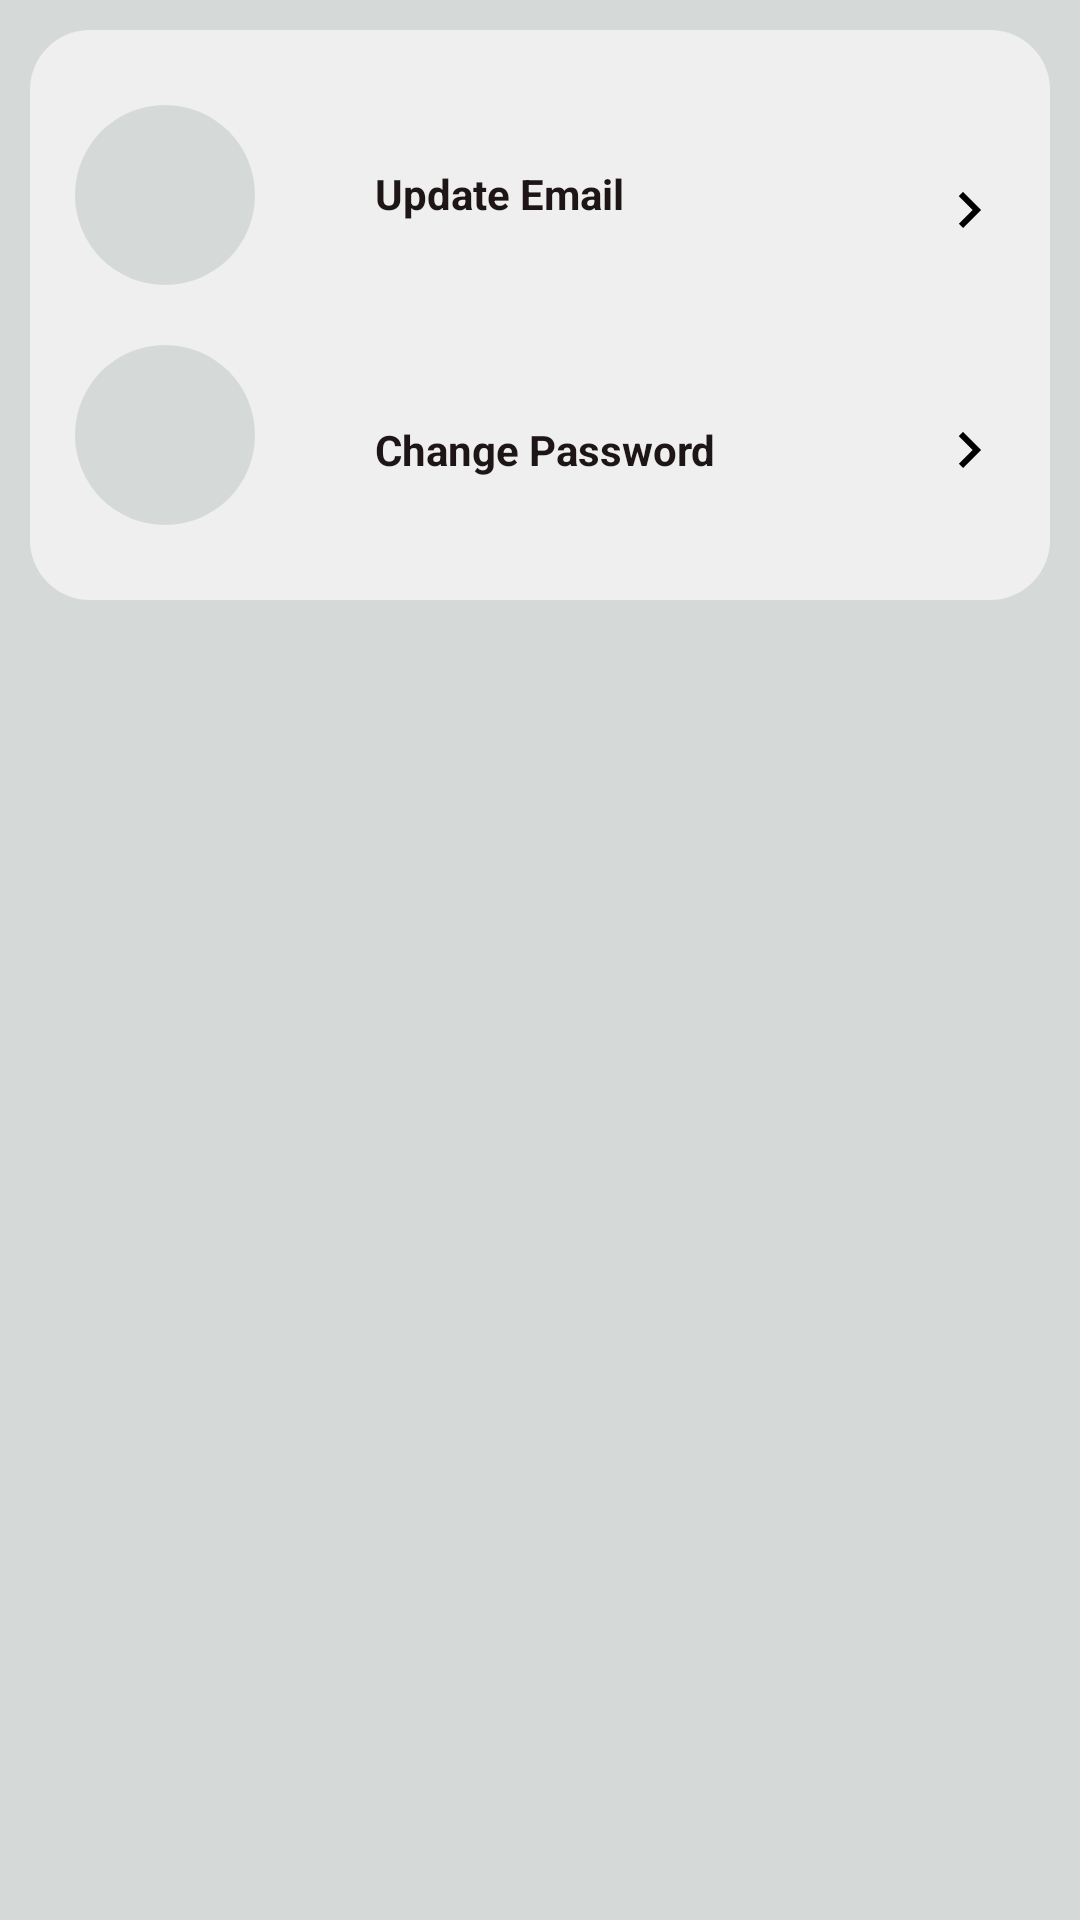

Named icons in this screenshot (1080 x 1920) and their centers, (x=x, y=y):
right arrow: (x=970, y=210), (x=970, y=450)
